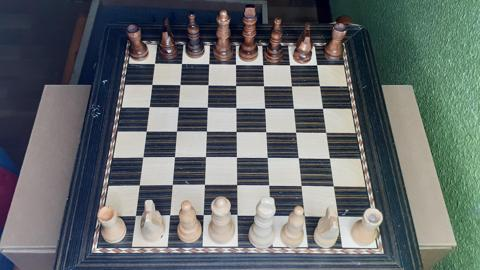xcorner: (141, 126, 150, 135), (177, 58, 186, 67), (175, 79, 184, 88), (173, 102, 182, 111), (167, 181, 176, 190), (165, 212, 174, 221), (204, 58, 213, 67), (203, 102, 212, 111), (201, 153, 210, 162), (200, 181, 209, 190), (199, 212, 208, 221), (233, 127, 242, 136), (233, 153, 242, 162), (234, 212, 243, 221), (259, 59, 268, 68), (263, 127, 272, 136), (265, 153, 274, 162), (268, 212, 277, 221), (287, 59, 296, 68), (289, 80, 298, 89), (291, 103, 300, 112), (294, 127, 303, 136), (314, 59, 323, 68), (328, 154, 337, 163), (332, 182, 341, 191), (337, 213, 346, 222), (149, 58, 158, 66), (147, 79, 155, 88), (144, 102, 153, 110), (138, 152, 146, 161), (134, 181, 143, 189), (130, 212, 139, 220), (172, 126, 180, 135), (169, 153, 178, 161), (202, 127, 211, 135), (232, 59, 241, 67), (232, 80, 241, 88), (233, 102, 241, 111), (234, 181, 242, 190), (261, 80, 269, 89), (262, 103, 271, 111), (300, 182, 308, 191), (317, 81, 326, 89), (321, 103, 329, 112), (324, 128, 333, 136), (204, 80, 212, 88), (267, 182, 275, 190), (297, 154, 305, 162), (303, 213, 311, 221)
